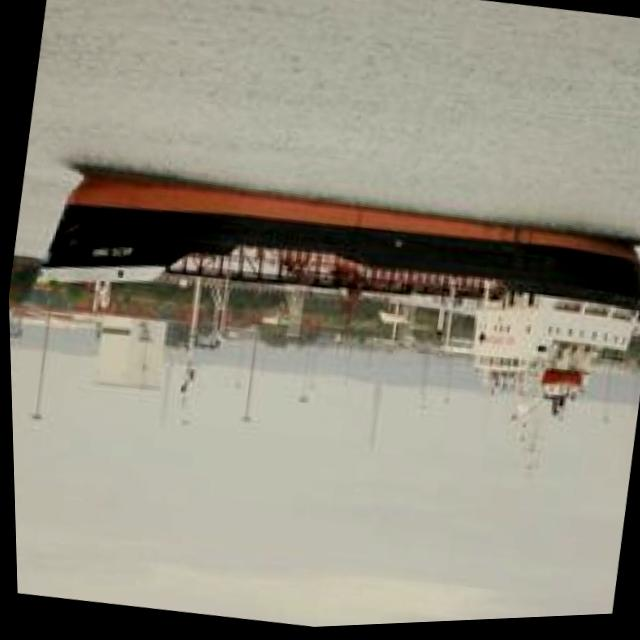ship2: (32, 167, 640, 467)
